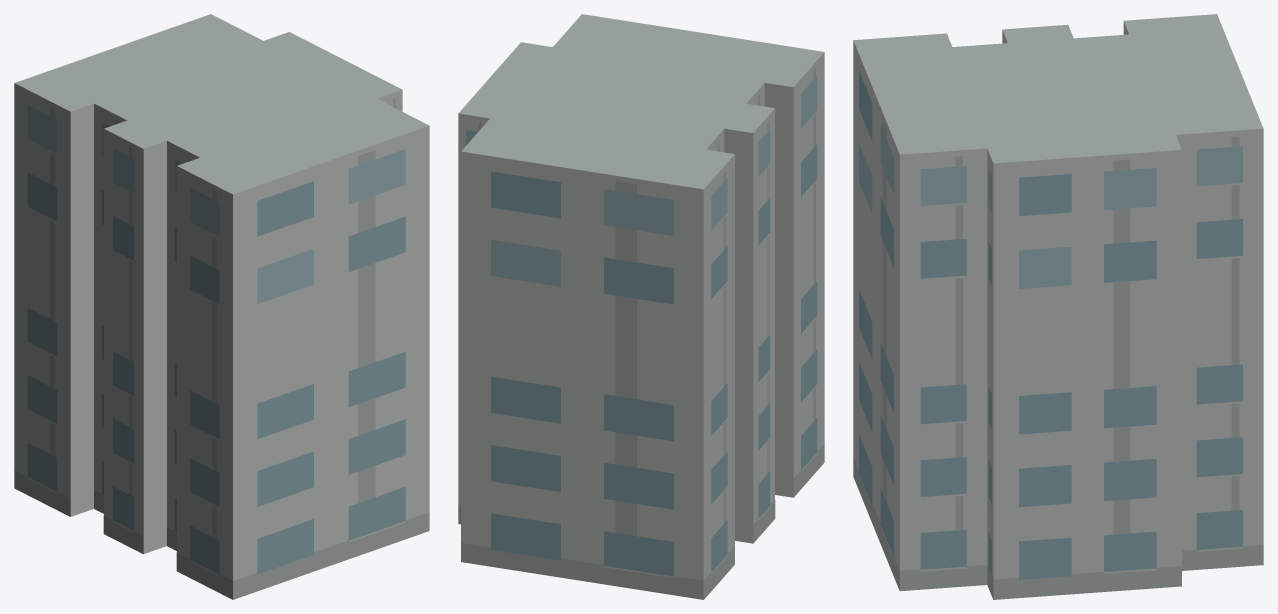
The model's file is survey-upis-33009191.glb.
3 views of the same model, side by side, from view 1: azimuth 30°, elevation 25°; view 2: azimuth 150°, elevation 25°; view 3: azimuth 270°, elevation 25° (orthographic). The views are drawn at different scales.
Visible parts, largest first — view 1: survey-upis-33009191.tmp; view 2: survey-upis-33009191.tmp; view 3: survey-upis-33009191.tmp.
Boxes of the visible parts, <box> form: survey-upis-33009191.tmp: <box>14,14,429,599</box>; survey-upis-33009191.tmp: <box>458,14,824,599</box>; survey-upis-33009191.tmp: <box>853,14,1263,599</box>.
Size of the model in its own units: 13.04 by 17.75 by 15.13.
